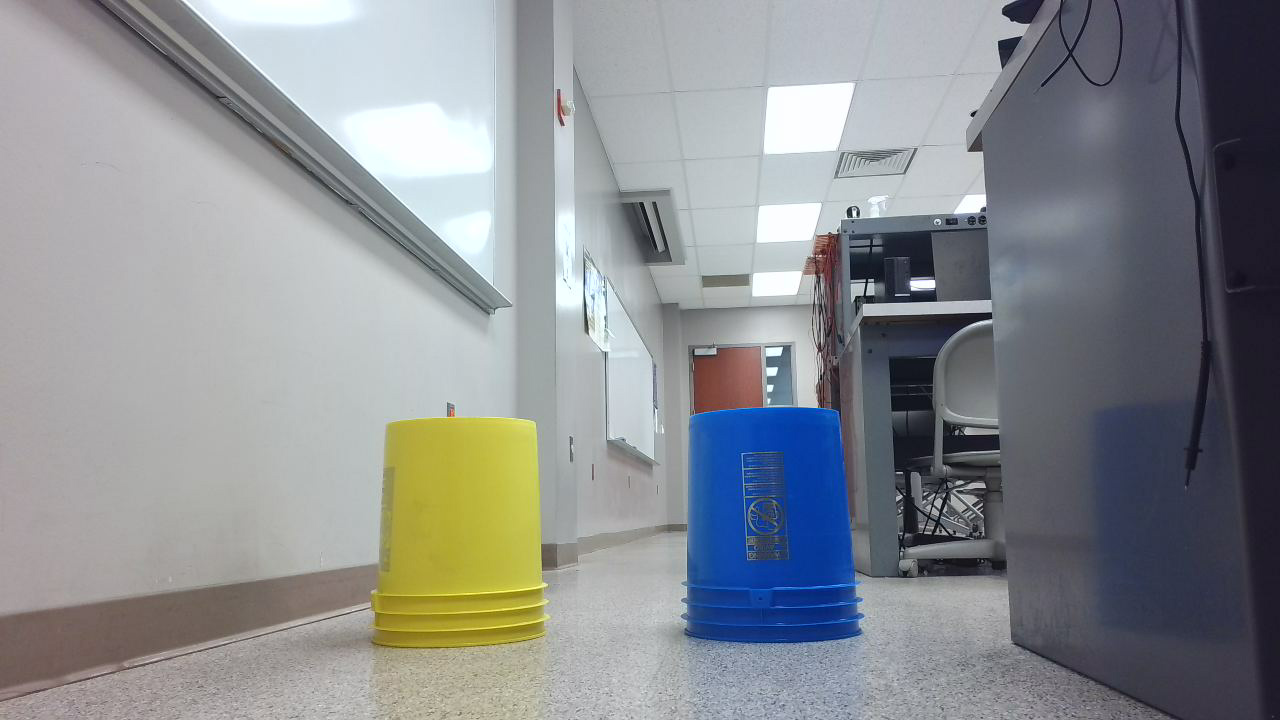blue_bucket: (681, 407, 880, 655)
yellow_bucket: (371, 413, 560, 654)
